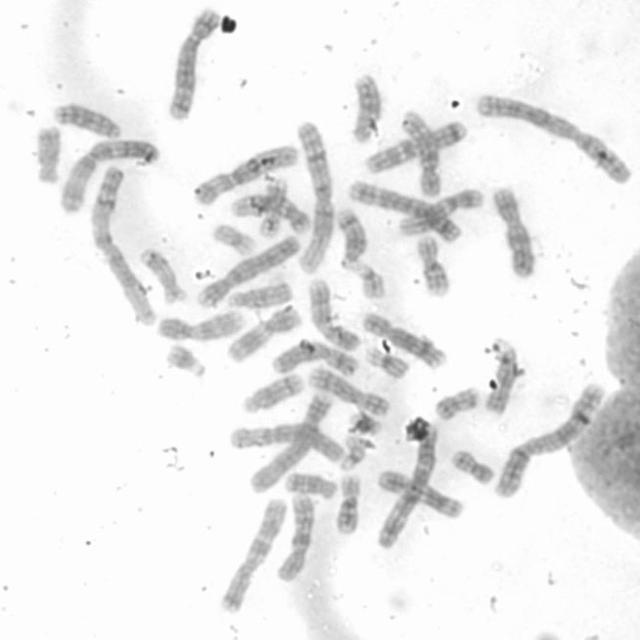A1: (88, 162, 160, 328), (291, 119, 336, 275)
A2: (471, 90, 635, 187), (490, 379, 606, 501)
A3: (372, 417, 440, 551), (56, 135, 162, 215)
B4: (246, 388, 333, 495), (193, 232, 302, 309)
B5: (344, 178, 462, 244), (163, 4, 221, 122)
C10: (396, 105, 444, 199), (273, 490, 316, 582)
C11: (223, 302, 304, 364), (379, 465, 465, 523)
C12: (392, 185, 485, 238), (226, 189, 311, 236)
C6: (189, 140, 299, 208), (226, 420, 345, 464)
C7: (218, 494, 288, 616), (361, 117, 470, 175)
C8: (357, 310, 448, 370), (307, 363, 392, 417)
C9: (306, 276, 363, 354), (154, 305, 248, 343)
D13: (49, 98, 122, 141), (347, 70, 382, 144)
D14: (238, 368, 305, 415), (333, 203, 370, 267)
D15: (476, 337, 520, 418), (224, 276, 294, 308)
E16: (412, 232, 452, 298), (330, 469, 363, 536)
E17: (135, 244, 186, 305), (253, 172, 290, 239)
E18: (29, 120, 64, 186), (281, 468, 338, 501)
F19: (210, 220, 258, 259), (360, 344, 410, 381)
F20: (430, 383, 482, 422), (448, 446, 496, 486)
G21: (162, 340, 208, 380), (342, 406, 384, 438)
G22: (348, 260, 386, 301), (336, 431, 368, 472)
X: (488, 182, 537, 280), (269, 335, 361, 378)
